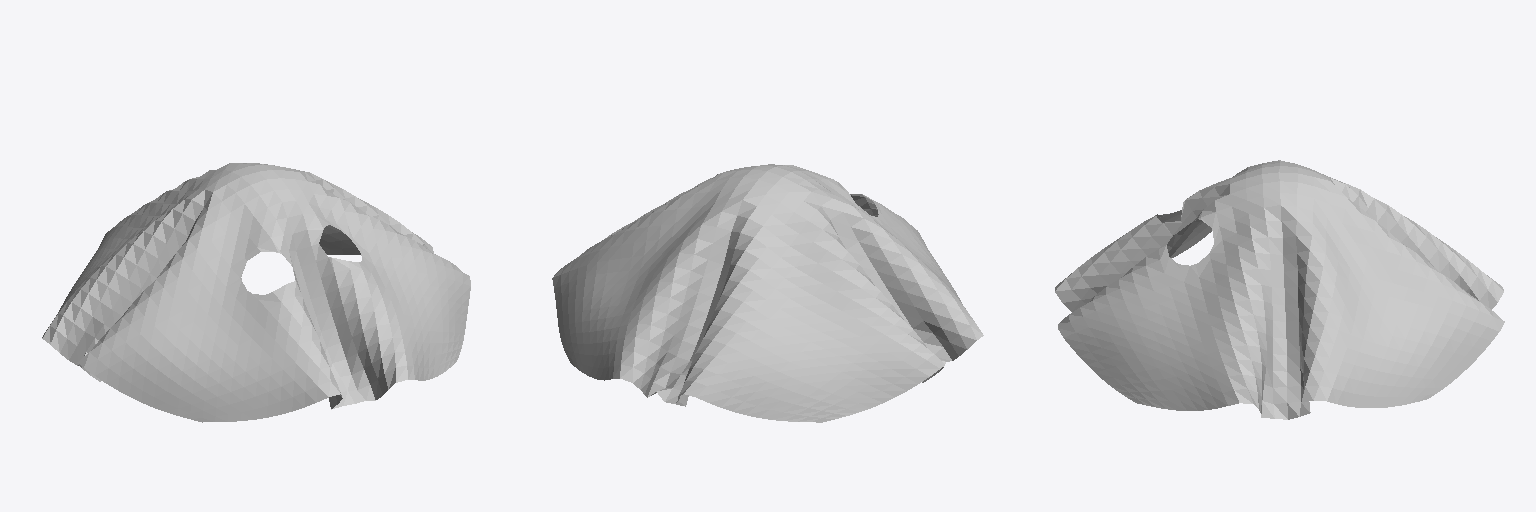
The model's file is cloth.obj.
3 renders of one model, left to right at view 1: azimuth 30°, elevation 25°; view 2: azimuth 150°, elevation 25°; view 3: azimuth 270°, elevation 25°, orthographic.
Parts seen in each view (by area): view 1: Plane; view 2: Plane; view 3: Plane.
Boxes of the visible parts, x1,y1,x2,y2 form: Plane: [42, 163, 470, 422]; Plane: [552, 164, 983, 422]; Plane: [1055, 160, 1504, 419].
Size of the model in its own units: 5.39 by 2.24 by 5.42.